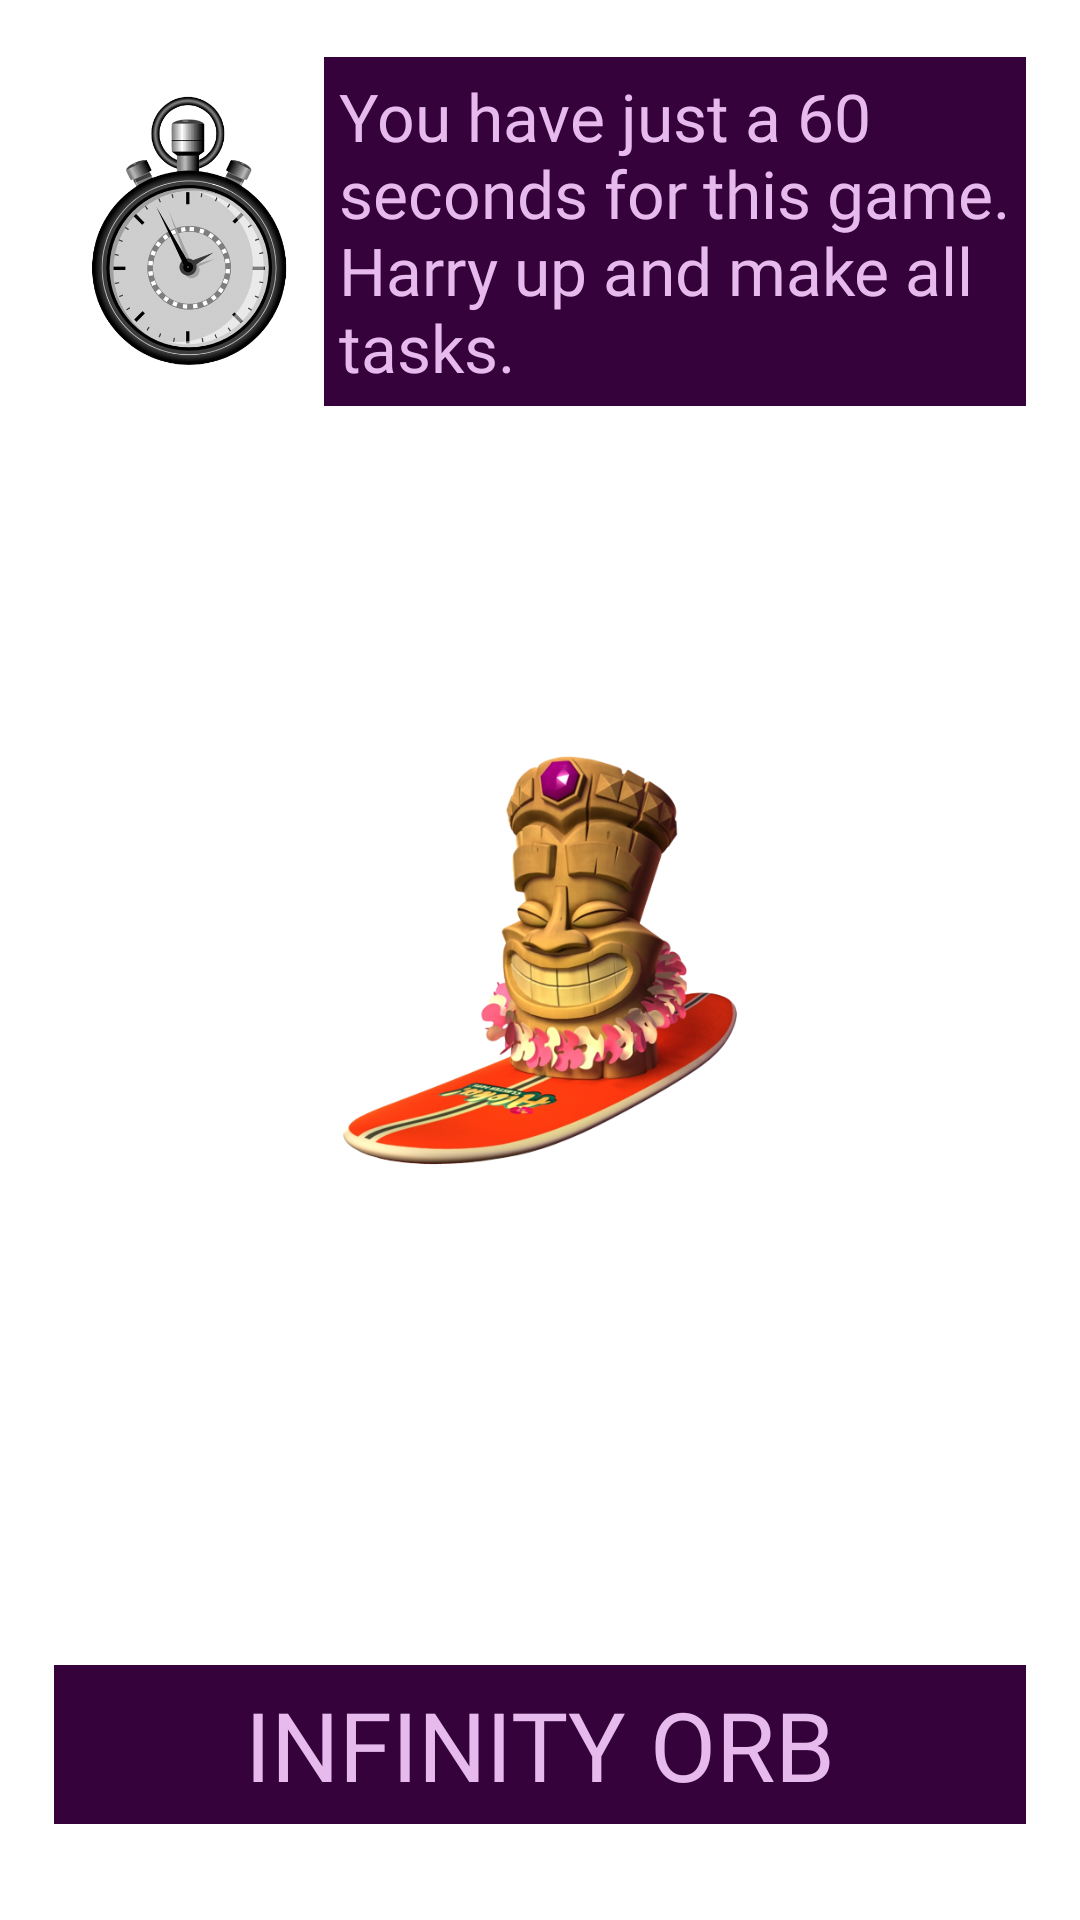

Icon bounding boxes for this 1080w x 1920h phone screenshot, format (x1, y1, x2, y2):
tiiimer: (92, 97, 287, 365)
